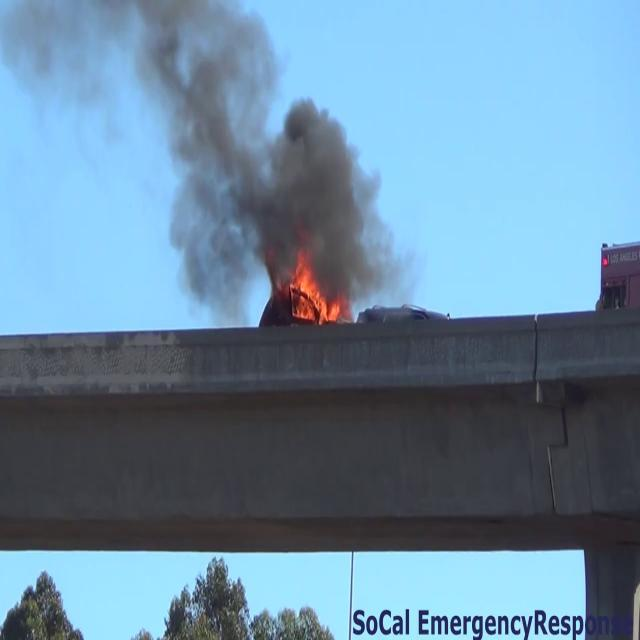Fire: (286, 256, 346, 330)
Smoke: (9, 0, 397, 298)
